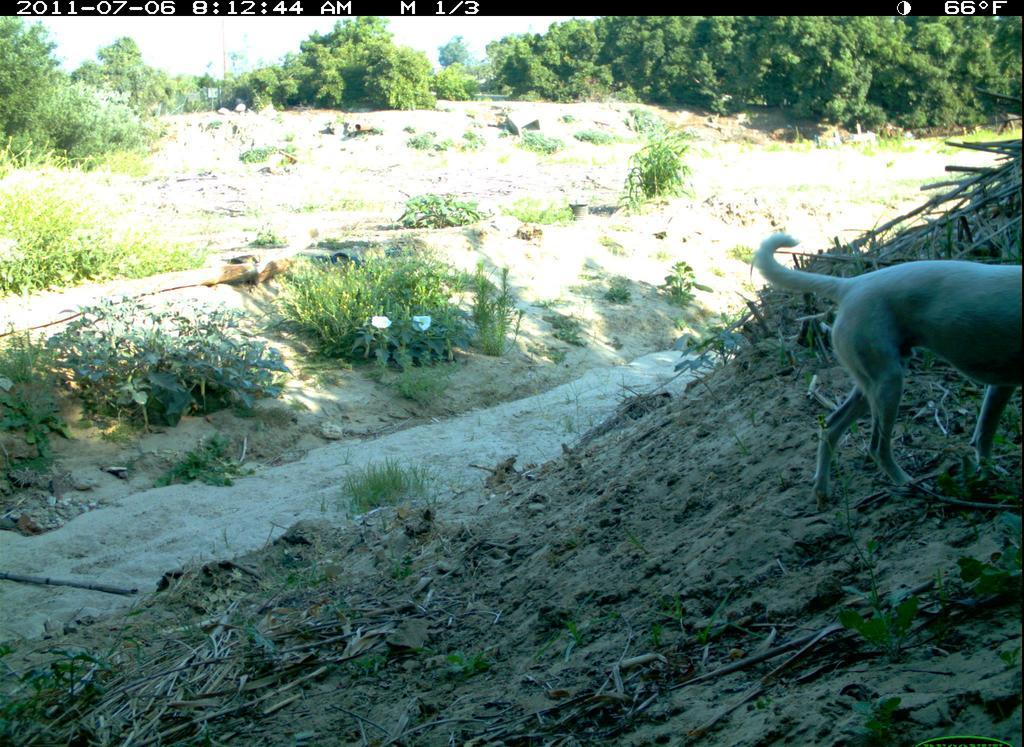dog: (753, 232, 1023, 495)
